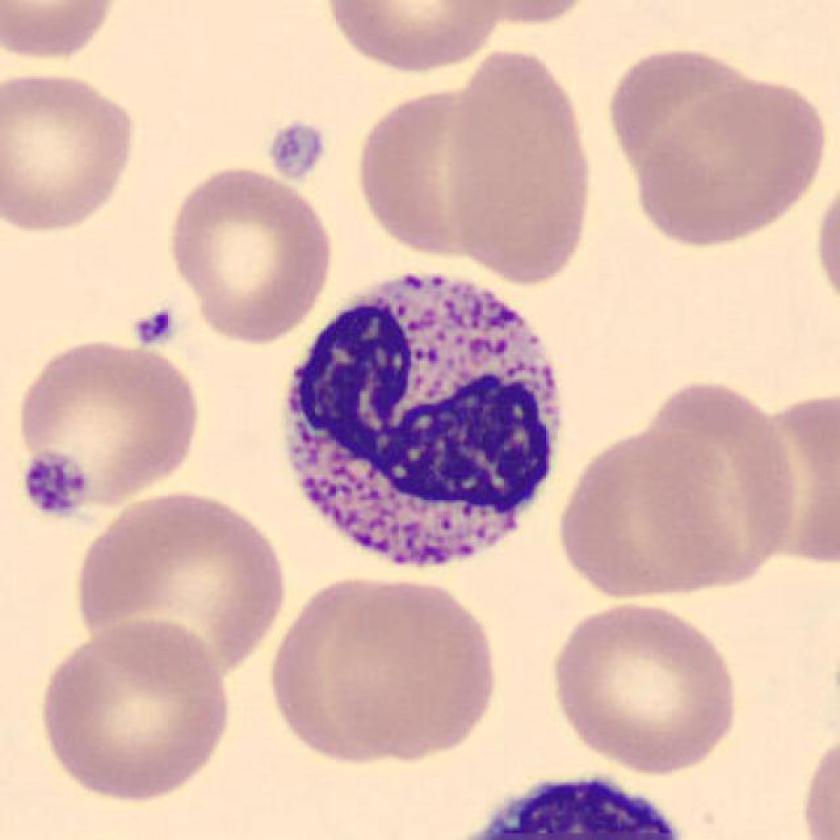neutrophil: (286, 275, 561, 563)
